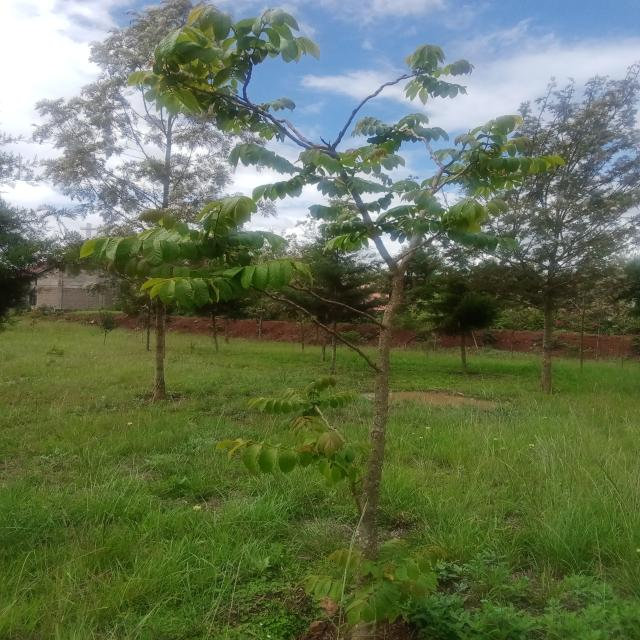Polyscias Kikuyensis: (114, 8, 567, 634)
